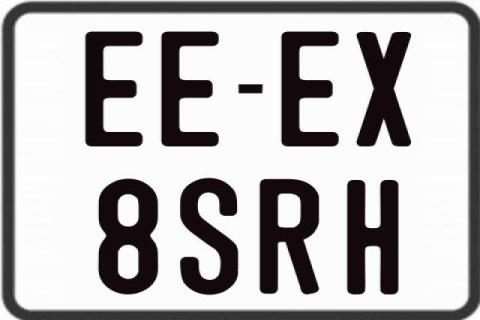0: (96, 176, 157, 295)
E: (85, 29, 148, 148), (279, 31, 342, 147), (161, 30, 222, 146)
H: (347, 180, 402, 294)
R: (258, 178, 319, 294)
S: (180, 176, 244, 298)
X: (354, 32, 410, 147)
